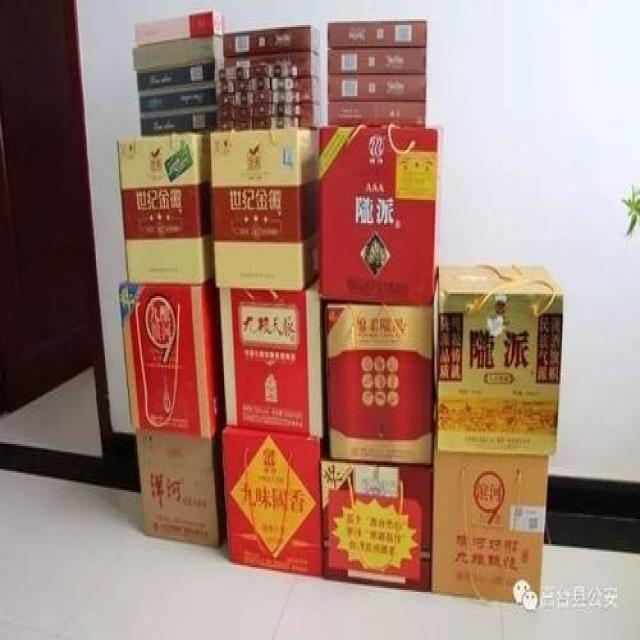box: (435, 267, 565, 456), (315, 126, 443, 303), (431, 449, 550, 609), (210, 127, 319, 290), (118, 271, 224, 438), (325, 303, 433, 462), (222, 280, 324, 432), (222, 423, 321, 579), (320, 459, 433, 590), (118, 130, 214, 282), (136, 425, 226, 547), (131, 35, 225, 69), (136, 77, 221, 114), (224, 25, 320, 57), (134, 59, 224, 91), (328, 44, 426, 73), (136, 12, 222, 45), (330, 71, 427, 99), (328, 21, 426, 48), (327, 96, 424, 123), (140, 107, 220, 135), (289, 53, 323, 78), (299, 75, 324, 104), (299, 100, 323, 126)
